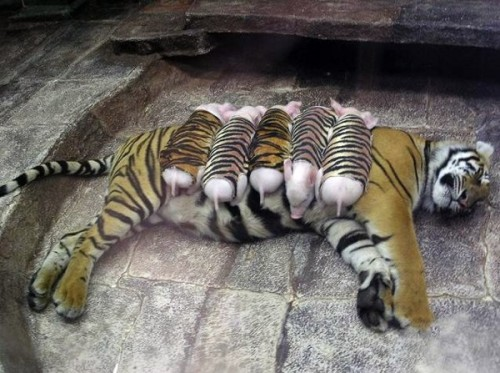Tigre: (83, 115, 490, 323)
